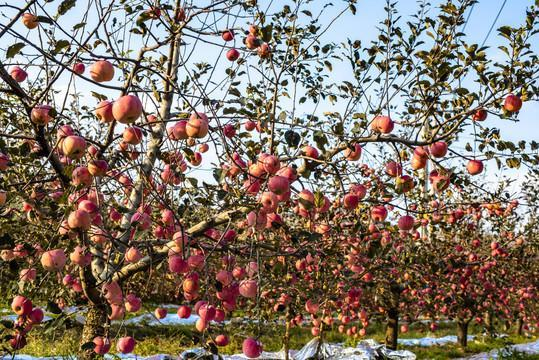apple: (112, 93, 143, 123), (61, 135, 87, 159), (40, 249, 67, 272), (89, 59, 114, 82), (185, 117, 209, 138), (267, 174, 290, 195), (10, 296, 32, 317), (94, 101, 113, 125), (242, 337, 263, 358), (258, 192, 278, 213), (375, 114, 395, 135), (239, 279, 257, 300), (123, 125, 142, 144), (503, 94, 522, 112), (344, 142, 362, 160), (116, 337, 135, 354), (262, 156, 279, 174), (172, 120, 188, 139), (430, 141, 447, 158), (466, 159, 484, 175), (398, 214, 414, 231), (370, 206, 387, 222), (412, 146, 430, 161), (22, 13, 38, 29), (343, 193, 359, 209), (350, 184, 367, 199), (177, 306, 192, 319), (226, 48, 240, 60)
